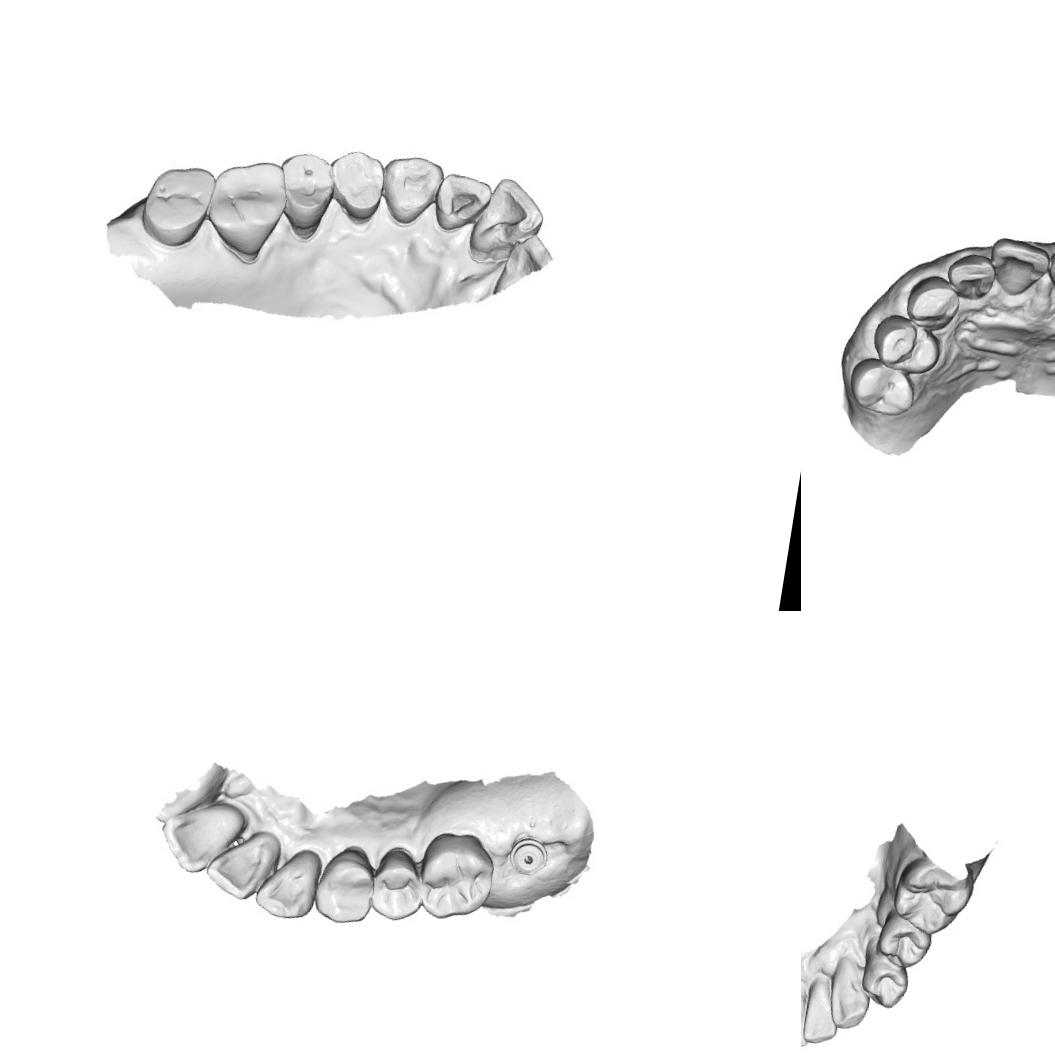canine: (252, 844, 326, 926), (376, 146, 444, 228), (902, 270, 965, 334), (824, 967, 876, 1034)
implant: (505, 831, 550, 879)
incisor: (152, 793, 247, 882), (466, 170, 550, 262), (200, 825, 282, 906), (984, 235, 1054, 303), (430, 169, 495, 237), (942, 248, 1000, 303), (801, 978, 844, 1048), (801, 991, 814, 1053)
molar: (200, 153, 288, 257), (886, 852, 978, 942), (136, 158, 216, 250)
premolar: (411, 825, 502, 928), (311, 839, 380, 928), (272, 146, 342, 229), (843, 352, 923, 422), (869, 310, 947, 378), (323, 145, 391, 222), (366, 842, 428, 926), (873, 910, 936, 974), (854, 949, 914, 1012)
